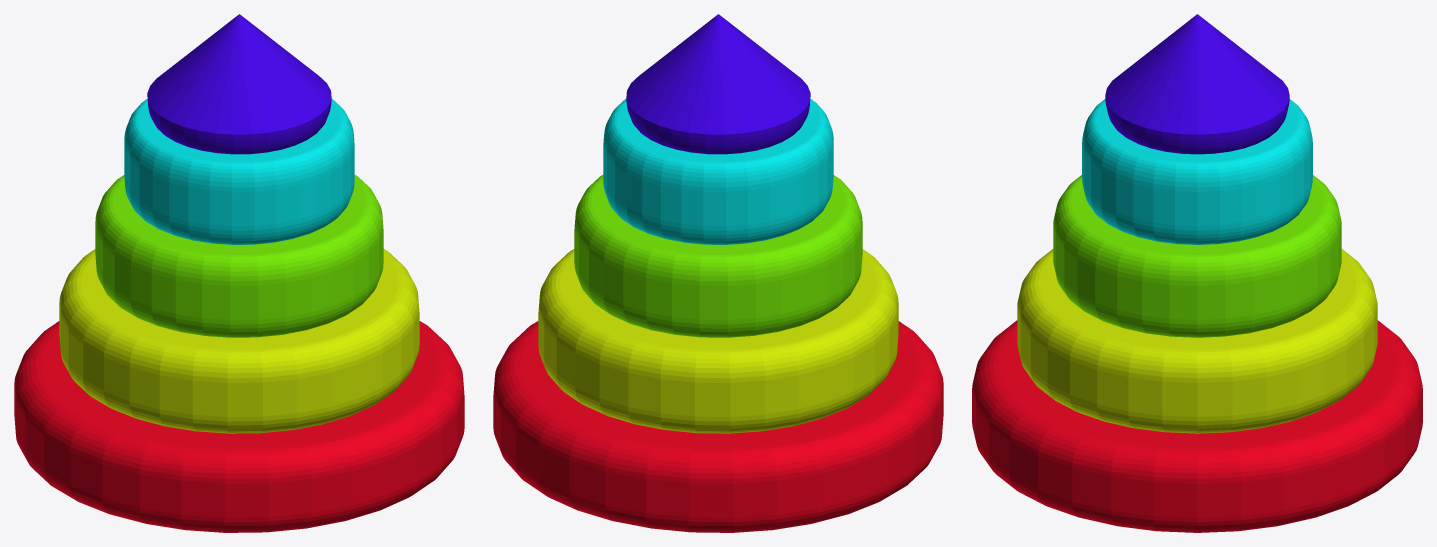
3 views of the same model, side by side, from view 1: azimuth 30°, elevation 25°; view 2: azimuth 150°, elevation 25°; view 3: azimuth 270°, elevation 25° (orthographic).
Parts seen in each view (by area): view 1: Cylinder, Cylinder.001, Cylinder.002, Cylinder.003, Cylinder.004; view 2: Cylinder, Cylinder.001, Cylinder.002, Cylinder.003, Cylinder.004; view 3: Cylinder, Cylinder.001, Cylinder.002, Cylinder.003, Cylinder.004.
Boxes of the visible parts, x1,y1,x2,y2 form: Cylinder: (14,321,464,532); Cylinder.001: (59,249,419,433); Cylinder.002: (95,175,383,337); Cylinder.003: (124,99,354,244); Cylinder.004: (147,14,331,154); Cylinder: (493,321,943,532); Cylinder.001: (538,249,898,433); Cylinder.002: (574,175,862,337); Cylinder.003: (603,99,833,244); Cylinder.004: (626,14,810,154); Cylinder: (972,320,1422,532); Cylinder.001: (1017,249,1377,433); Cylinder.002: (1053,175,1341,337); Cylinder.003: (1082,99,1312,244); Cylinder.004: (1105,14,1289,154).
Size of the model in its own units: 200 by 212 by 200.
